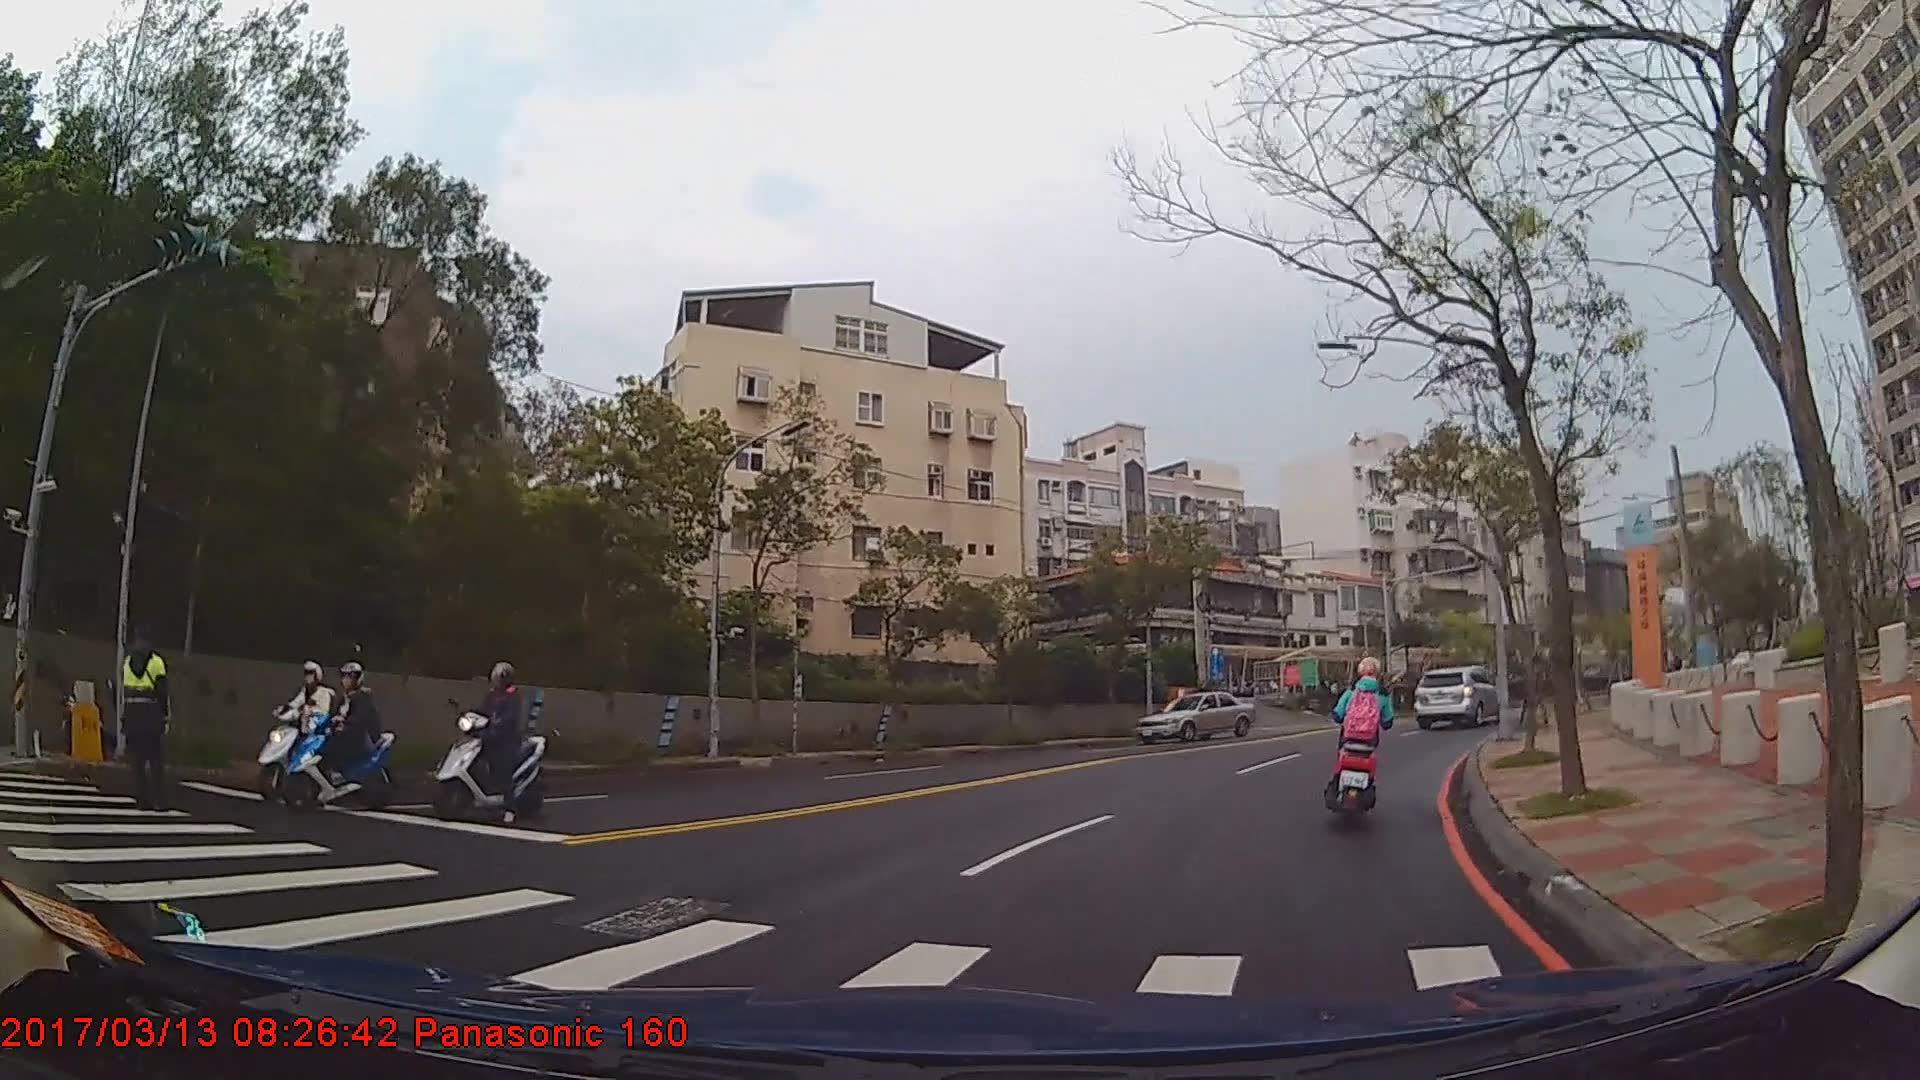pedestrian: (111, 623, 175, 810)
rider: (425, 663, 548, 826), (294, 658, 388, 803), (260, 659, 352, 795), (1328, 661, 1394, 815)
vehicle: (1130, 688, 1255, 744), (1413, 662, 1505, 725)
